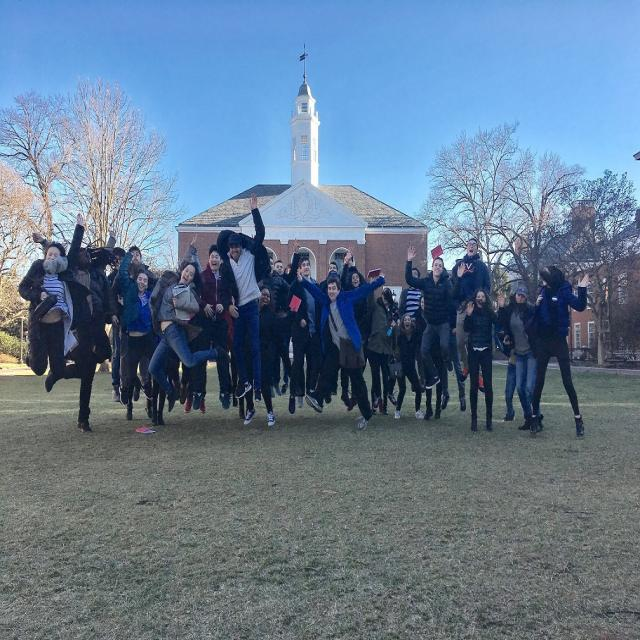body: (111, 358, 360, 427), (146, 231, 233, 414), (295, 266, 387, 432), (43, 243, 121, 434), (31, 227, 118, 395), (17, 209, 95, 383), (528, 264, 591, 438), (218, 190, 266, 403), (403, 244, 467, 390), (110, 242, 160, 406), (242, 284, 294, 428), (501, 284, 550, 434), (192, 244, 234, 411), (493, 291, 544, 428), (449, 236, 491, 396), (462, 287, 507, 433), (118, 250, 154, 423), (339, 245, 376, 412), (284, 255, 322, 416), (364, 272, 399, 411), (272, 235, 302, 397), (440, 254, 466, 414), (389, 312, 426, 421), (106, 245, 128, 403), (397, 266, 423, 321), (323, 245, 358, 276), (267, 252, 295, 277), (272, 259, 296, 285), (188, 233, 202, 271)
